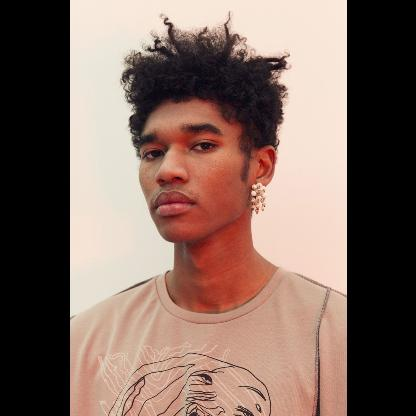Male: (137, 100, 275, 242)
